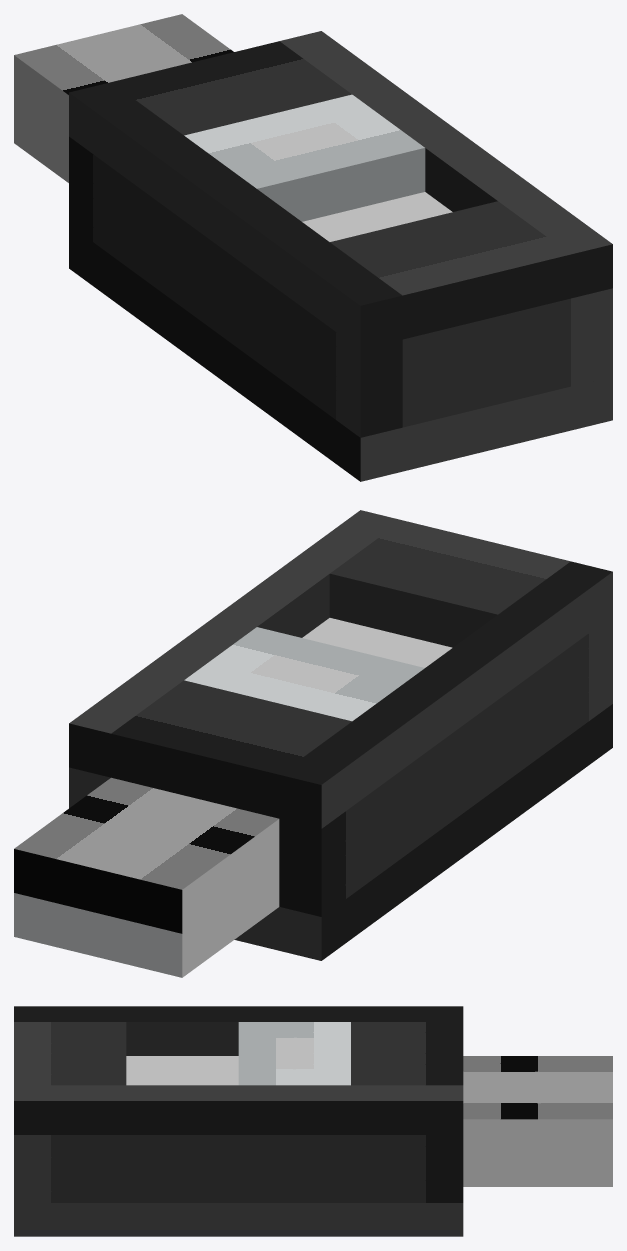
File: usb.obj
3 views of the same model, one above another, from view 1: azimuth 30°, elevation 25°; view 2: azimuth 150°, elevation 25°; view 3: azimuth 270°, elevation 25° (orthographic). The views are drawn at different scales.
Parts seen in each view (by area): view 1: cube; view 2: cube; view 3: cube.
Part boxes in pixels (left/top/right/bottom): cube: left=14, top=14, right=612, bottom=481; cube: left=14, top=510, right=612, bottom=977; cube: left=14, top=1006, right=612, bottom=1236.
Size of the model in its own units: 0.375 by 0.25 by 1.
